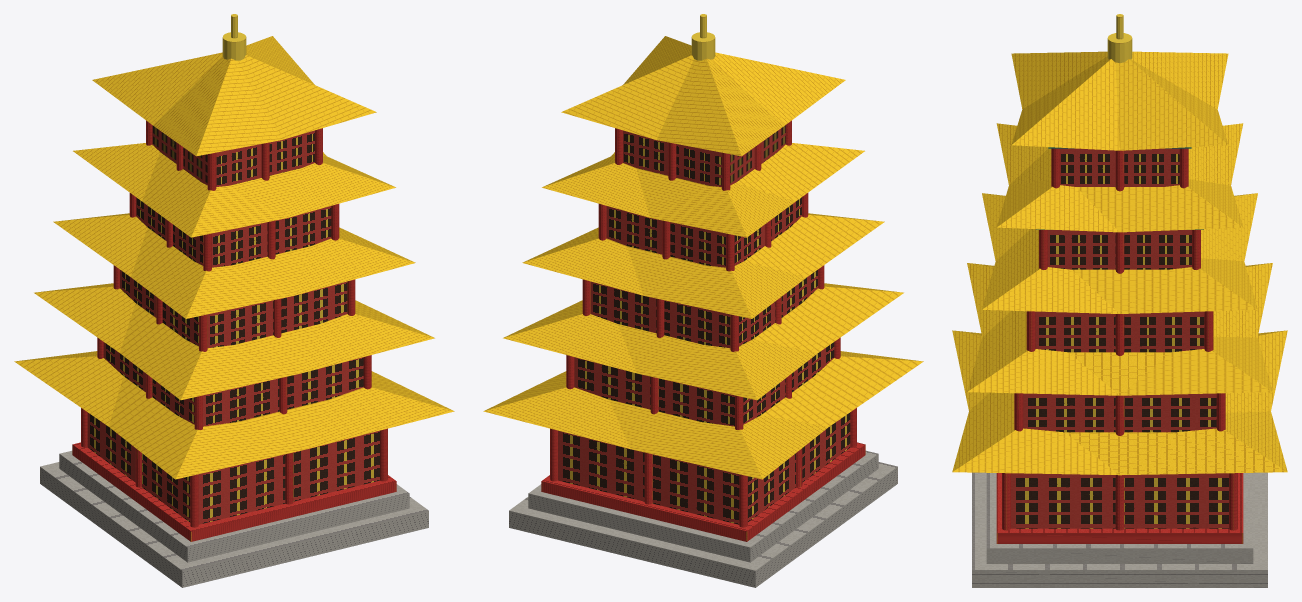
File: landmark_yellow_crane_tower.glb
3 renders of one model, left to right at view 1: azimuth 30°, elevation 25°; view 2: azimuth 150°, elevation 25°; view 3: azimuth 270°, elevation 25°, orthographic. The views are drawn at different scales.
Visible parts, largest first — view 1: Landmark_Yellow_Crane_Tower; view 2: Landmark_Yellow_Crane_Tower; view 3: Landmark_Yellow_Crane_Tower.
Part boxes in pixels (<box>): Landmark_Yellow_Crane_Tower: <box>14,14,454,587</box>; Landmark_Yellow_Crane_Tower: <box>483,14,923,587</box>; Landmark_Yellow_Crane_Tower: <box>952,14,1287,587</box>.
Size of the model in its own units: 13.6 by 22.8 by 13.6.
1 material, 1 textured.
